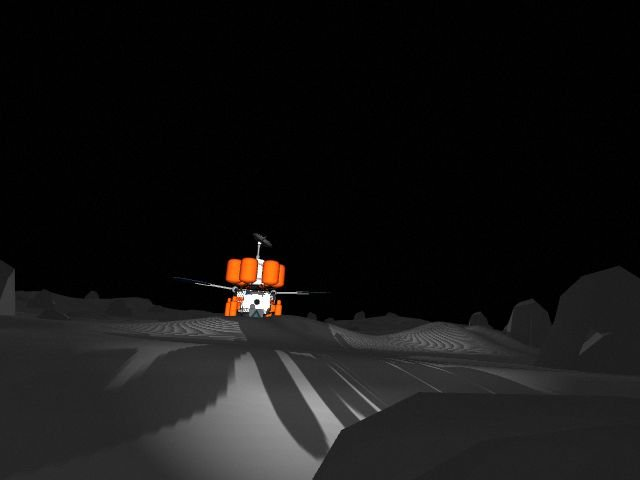homebase: (170, 231, 331, 331)
